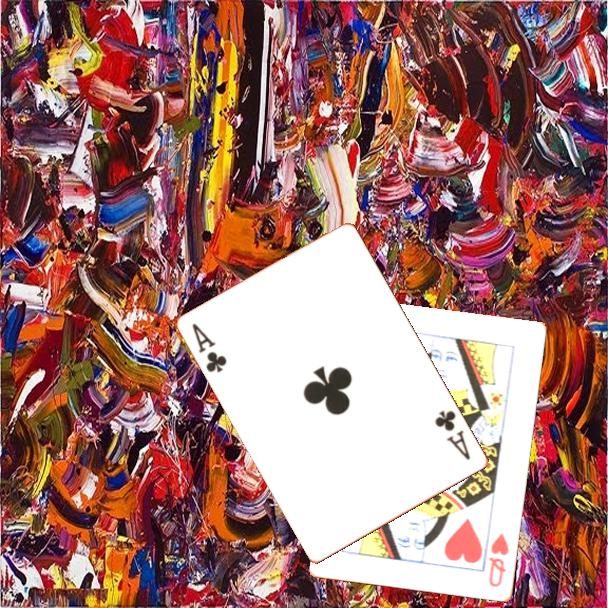c01: (432, 407, 474, 463), (189, 320, 230, 376)
h12: (485, 530, 512, 590)
